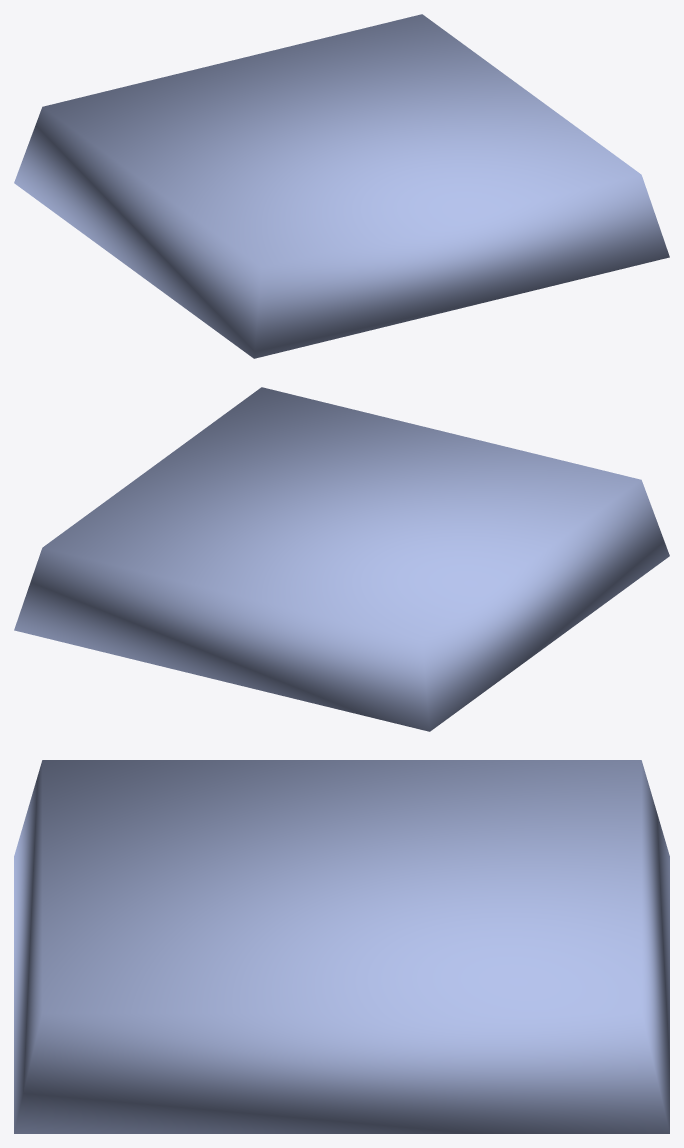
File: Printer_Base.fbx
The picture shows the model from 3 angles, top to bottom: view 1: azimuth 30°, elevation 25°; view 2: azimuth 150°, elevation 25°; view 3: azimuth 270°, elevation 25°; orthographic projection. The views are drawn at different scales.
Parts seen in each view (by area): view 1: Printer; view 2: Printer; view 3: Printer.
Part boxes in pixels (x1,y1,x2,y2): Printer: (14,14,669,358); Printer: (14,387,669,731); Printer: (14,760,669,1133).
Bounding box in the file's own units: 219 × 40 × 219.
